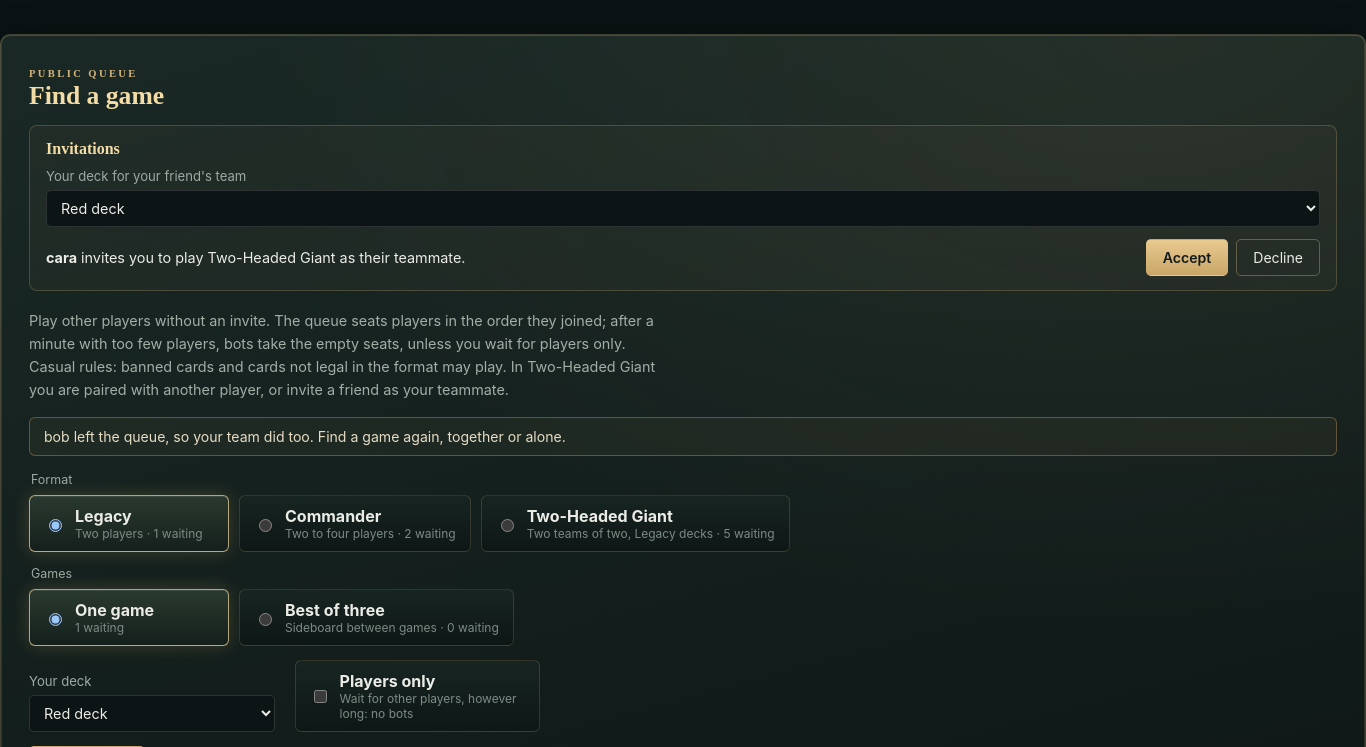
Test: Two-Headed Giant's queue (v0.5.1) › declines, and says why a team's wait ended
Check: the message shows "bob left the queue, so your team did too.", box top-left (44, 428), bottom-right (566, 445)
Click the button named "Decline cara's invitation" at (1278, 258), box top-left (1236, 239), bottom-right (1320, 276)
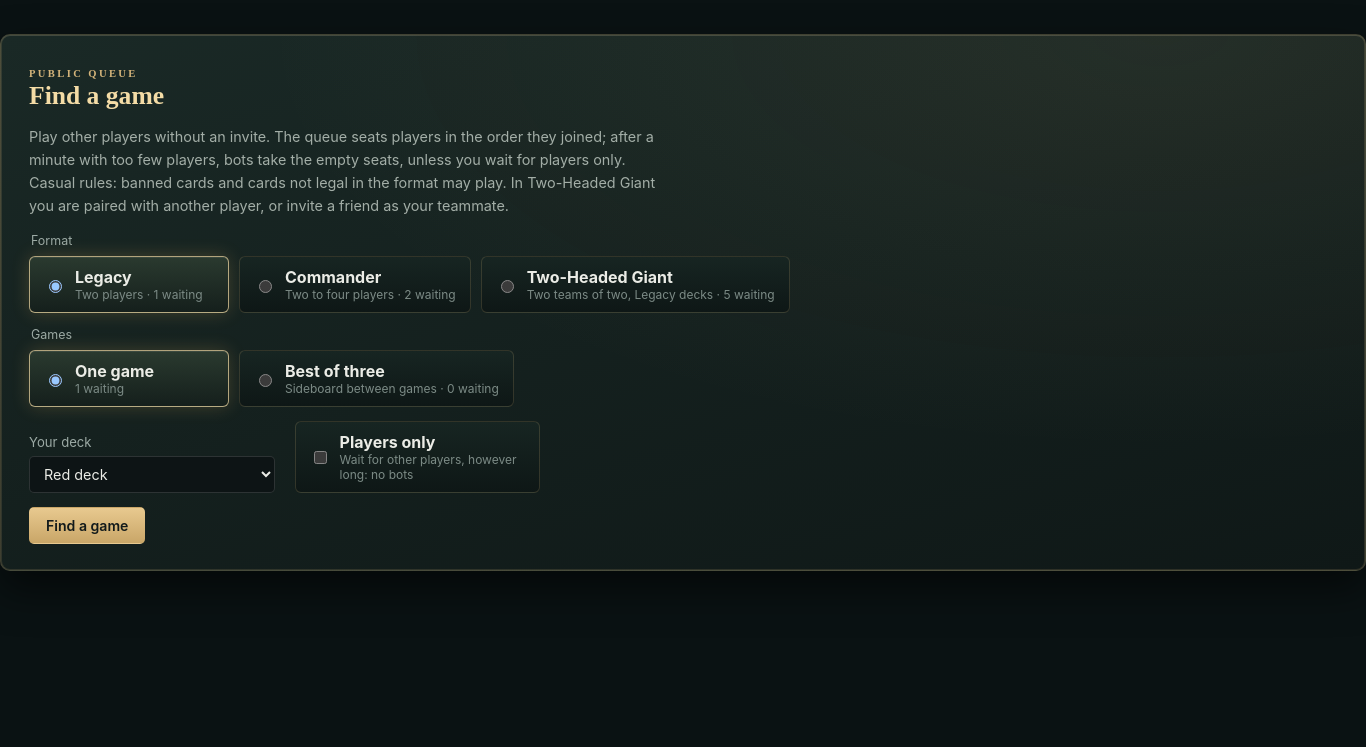
Check: the heading "Invitations" is gone
